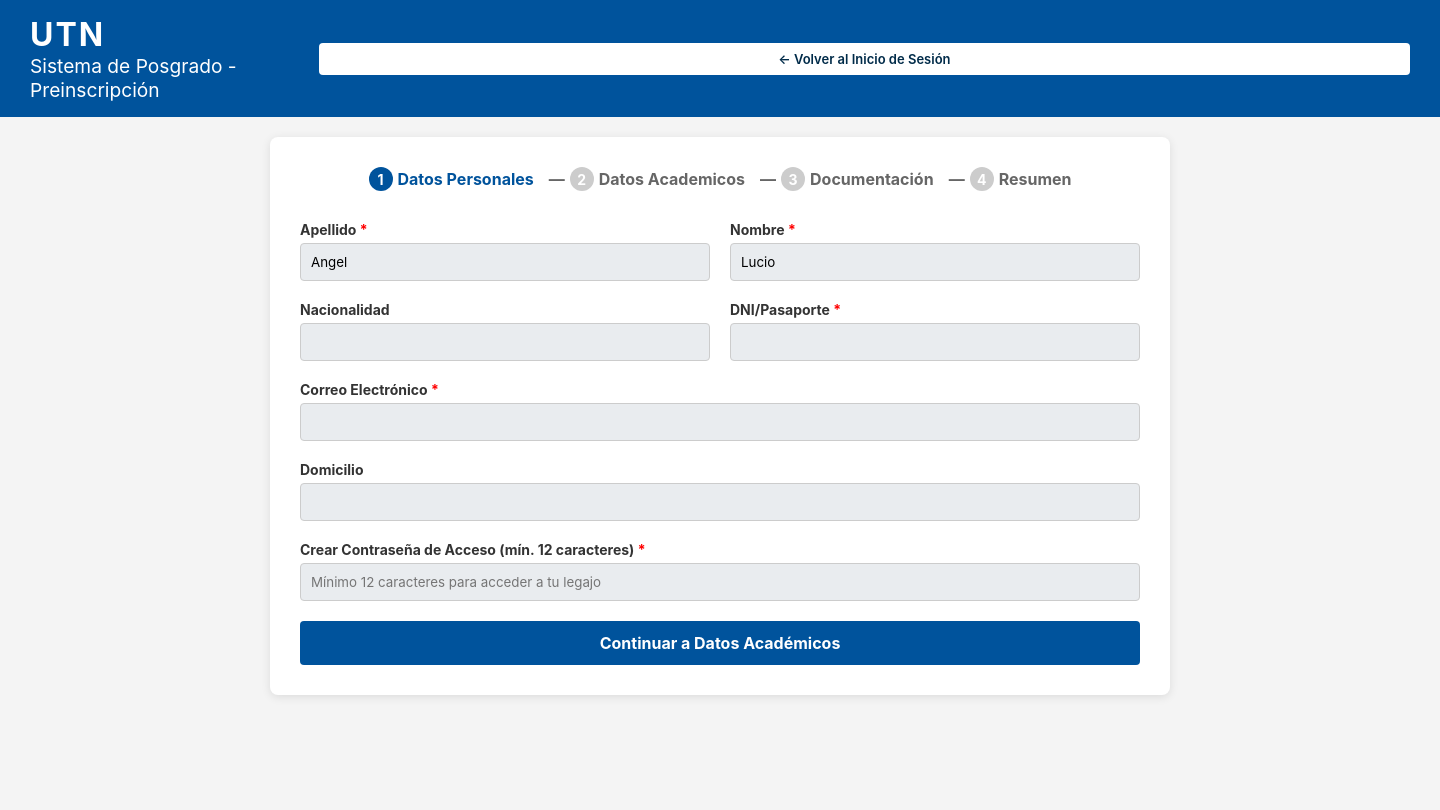
Test: Preinscripcion Component › rechaza archivos .pdf sin firma binaria %PDF en Paso 3
The width and height of the screenshot is (1440, 810).
Earlier steps of the test are not shown.
Later steps or results of the test are not shown.
In the field named "dni" below "DNI/Pasaporte": (935,342) [730, 323, 1140, 361], type "40123456"
In the field named "email" below "Correo Electrónico": (720,422) [300, 403, 1140, 441], type "lucio@utn.edu.ar"
In the password field named "password": (720,582) [300, 563, 1140, 601], type "ClaveSegura123"
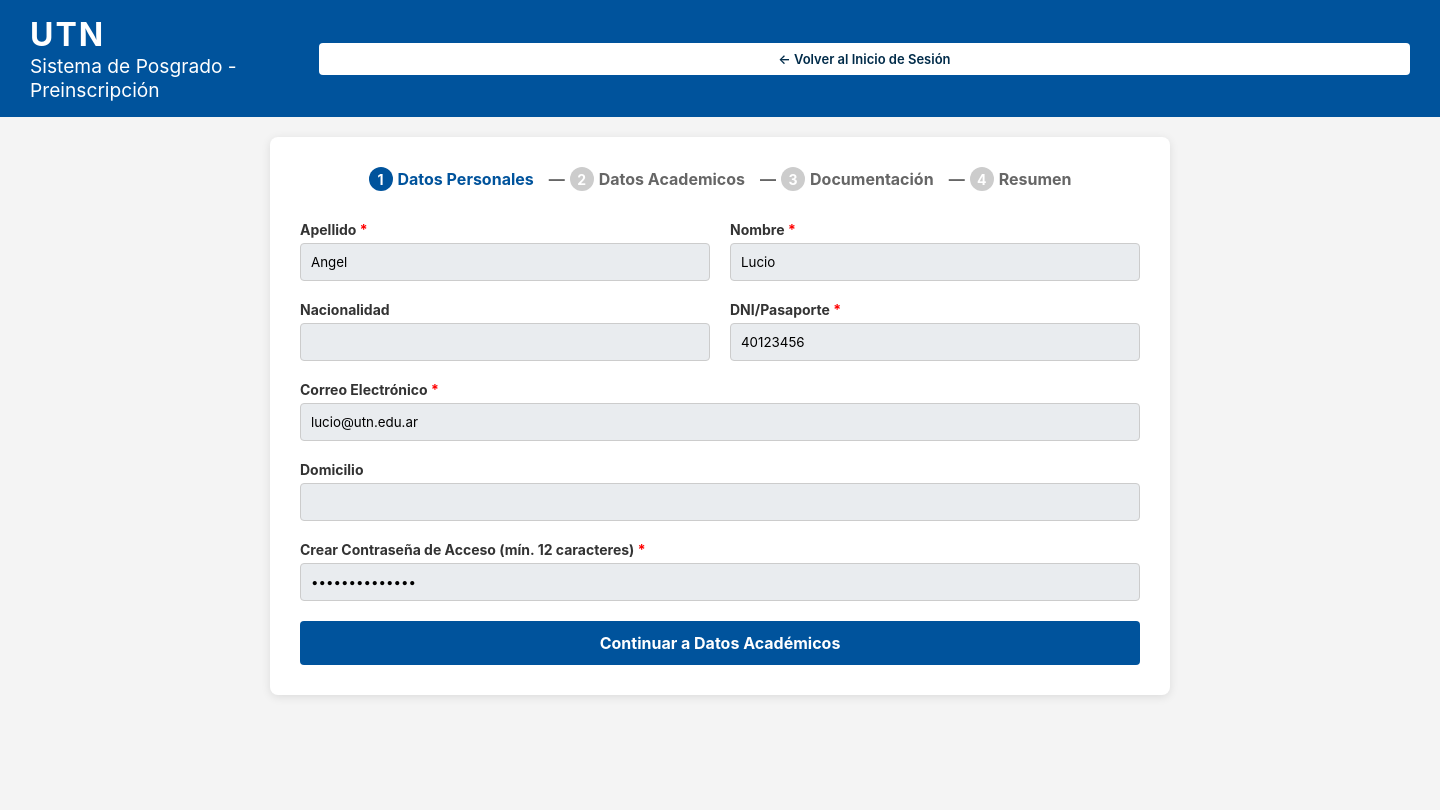
Click the button "Continuar a Datos Académicos": (720,643) [300, 621, 1140, 665]
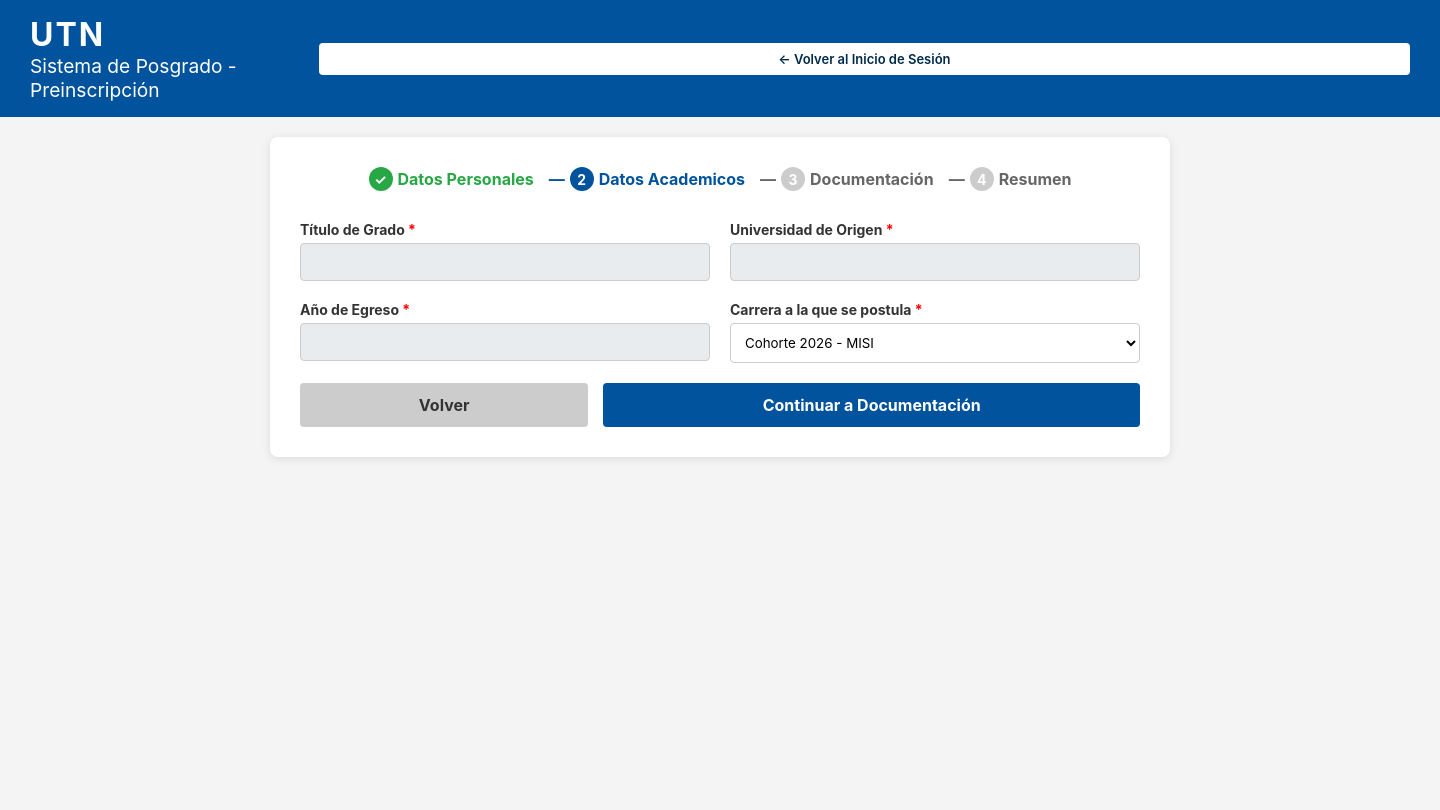
Now the field named "titulo" below "Título de Grado" is shown
In the field named "titulo" below "Título de Grado": (505,262) [300, 243, 710, 281], type "Ingeniero en Sistemas"
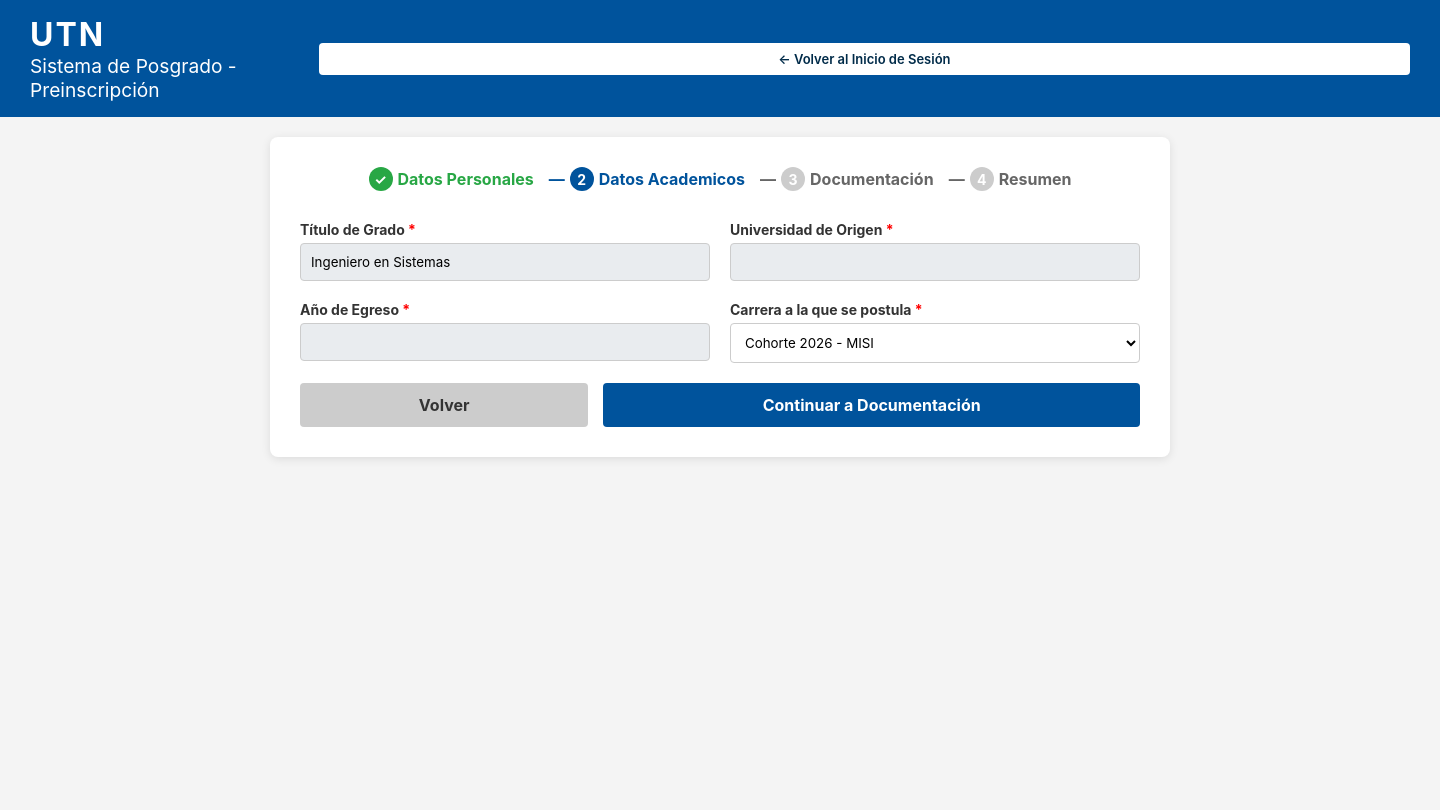
In the field named "universidad" below "Universidad de Origen": (935,262) [730, 243, 1140, 281], type "UTN FRLP"
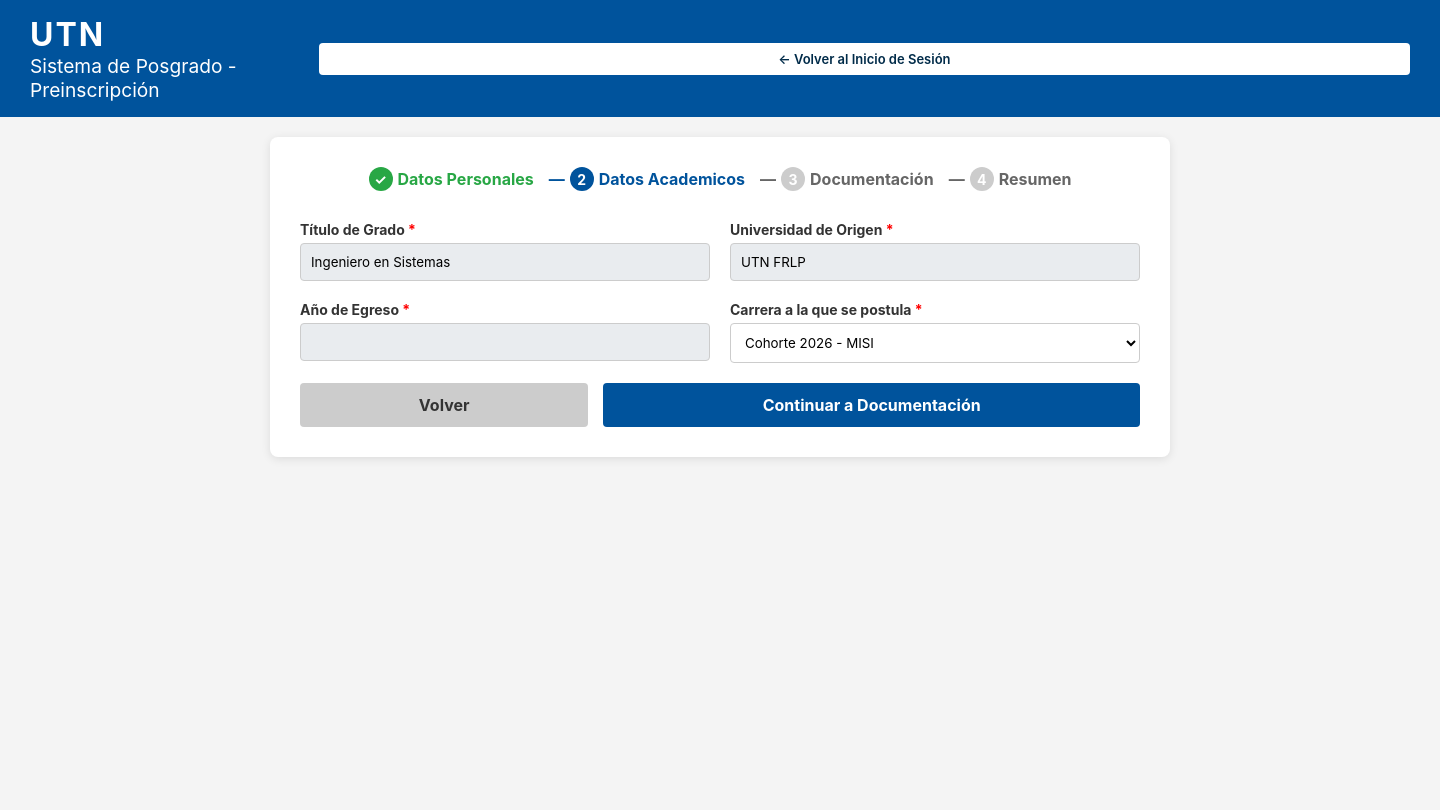
In the number field named "anioEgreso": (505,342) [300, 323, 710, 361], type "2025"
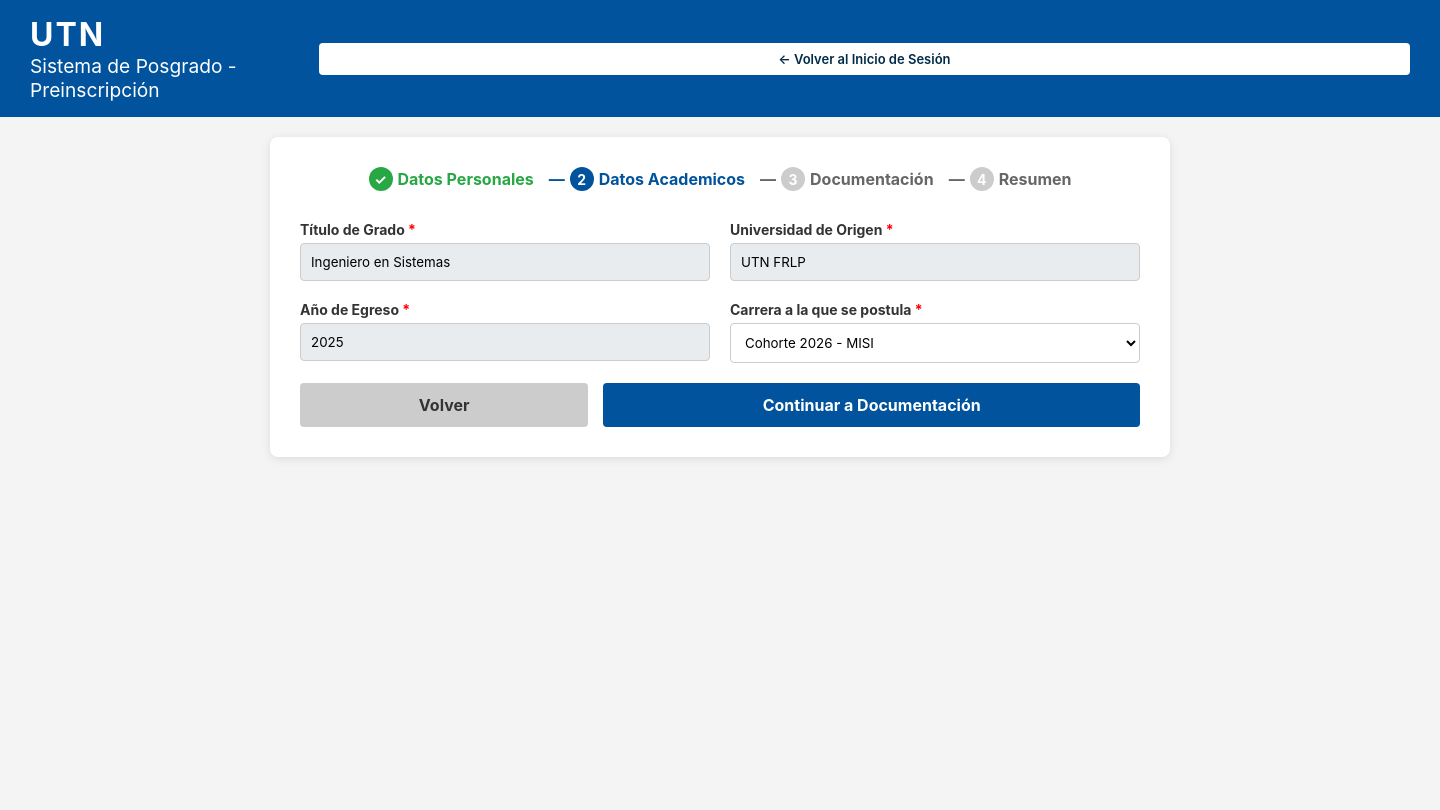
Click the button "Continuar a Documentación": (872,405) [603, 383, 1140, 427]
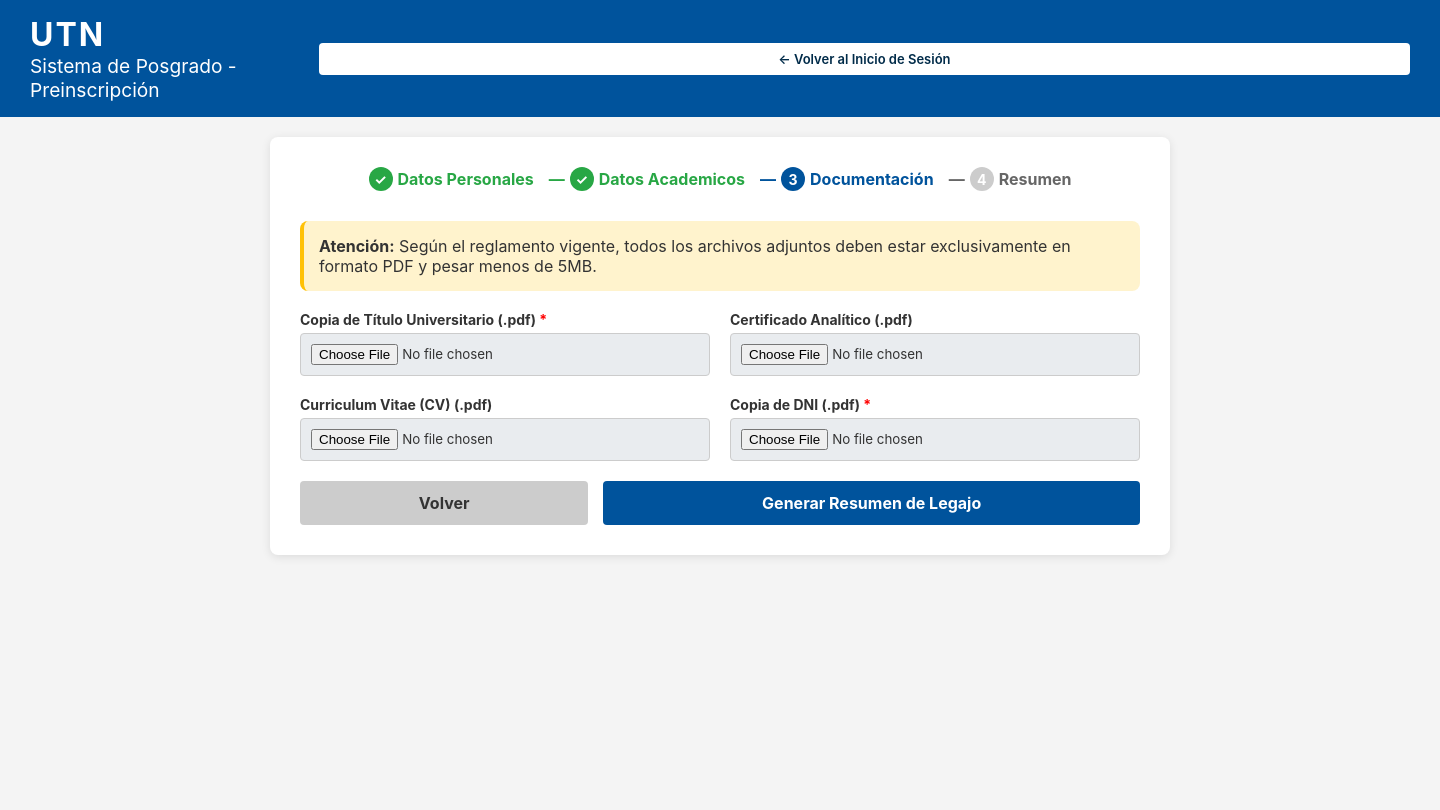
Now the button "Generar Resumen de Legajo" is shown, box [603, 481, 1140, 525]
